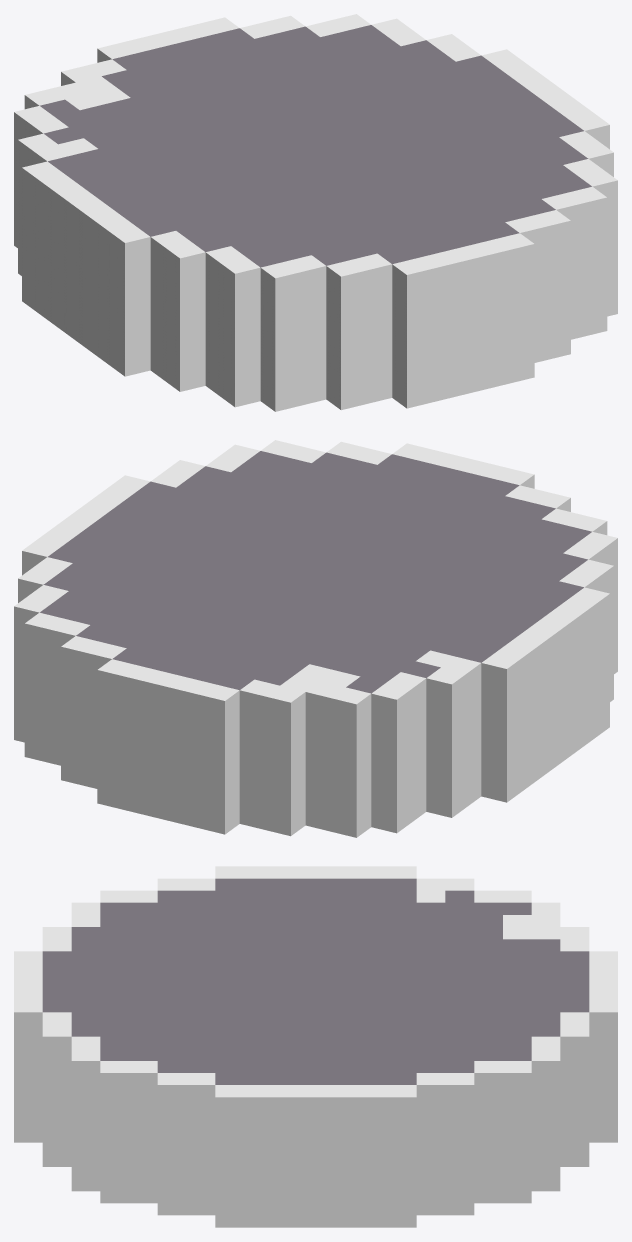
Rendered from scatoletta.gltf.
3 renders of one model, top to bottom at view 1: azimuth 30°, elevation 25°; view 2: azimuth 150°, elevation 25°; view 3: azimuth 270°, elevation 25°, orthographic. The views are drawn at different scales.
Visible parts, largest first — view 1: Layer.1, Layer.2; view 2: Layer.1, Layer.2; view 3: Layer.1, Layer.2.
Part boxes in pixels (x1=…): Layer.1: x1=14, y1=14, x2=617, y2=411; Layer.2: x1=40, y1=25, x2=591, y2=267; Layer.1: x1=14, y1=440, x2=617, y2=837; Layer.2: x1=40, y1=451, x2=591, y2=693; Layer.1: x1=14, y1=866, x2=617, y2=1227; Layer.2: x1=42, y1=878, x2=589, y2=1084.
Size of the model in its own units: 19 by 5 by 21.
Materials: 1 (1 with a texture image).
